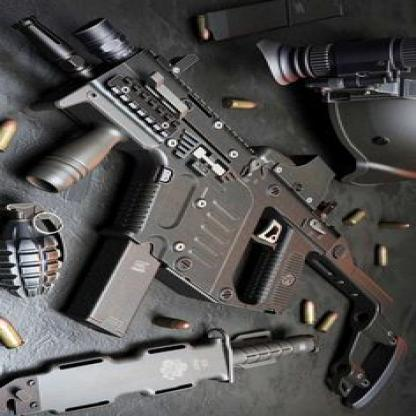Grenade: (0, 200, 69, 300)
Gun: (13, 15, 411, 412)
Knife: (3, 325, 318, 416)
